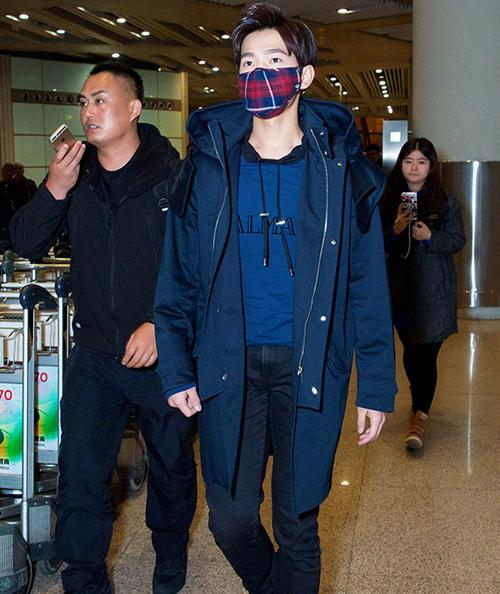face: (79, 72, 128, 143), (402, 149, 428, 182)
face_mask: (238, 29, 296, 113)
